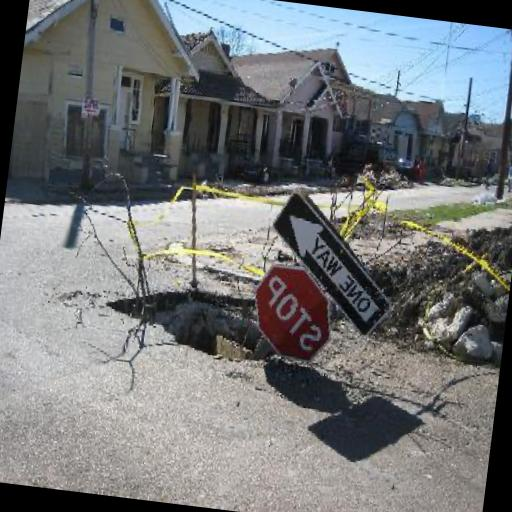pothole: (98, 268, 292, 370)
